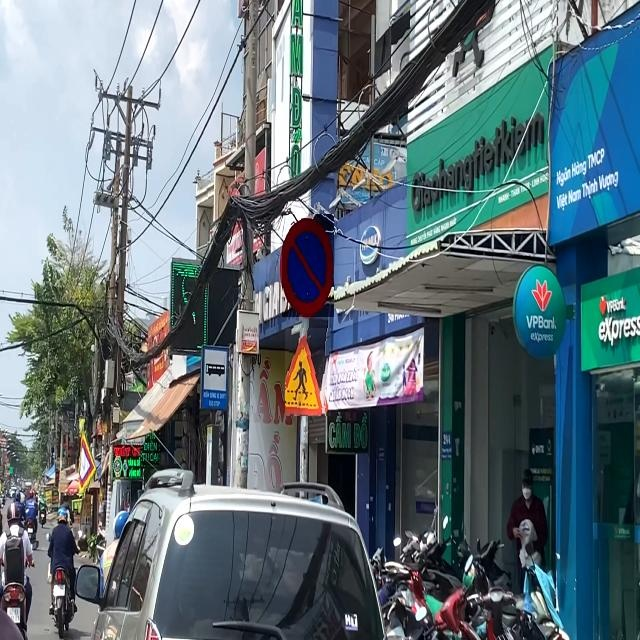bien_nguy_hiem: (282, 214, 334, 317), (286, 328, 332, 416)
